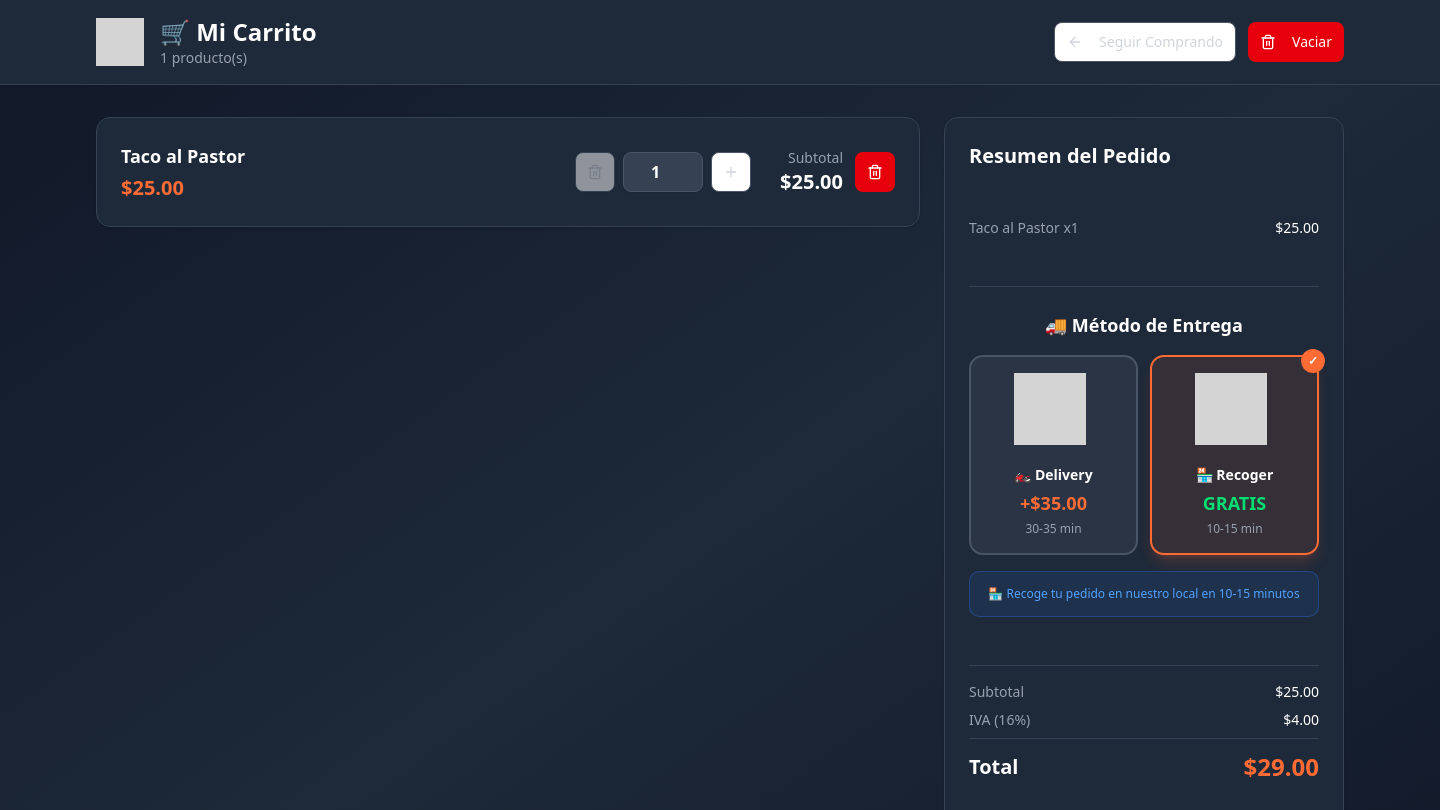
Test case: CartPage Component › Delivery Method › should show correct info message for delivery
Expected: the heading "Taco al Pastor" is shown, [121, 144, 245, 168]
Click the button "🏍️ Delivery +$35.00 30-35 min" at x=1054, y=455, box [969, 355, 1138, 555]
(page scrolled)
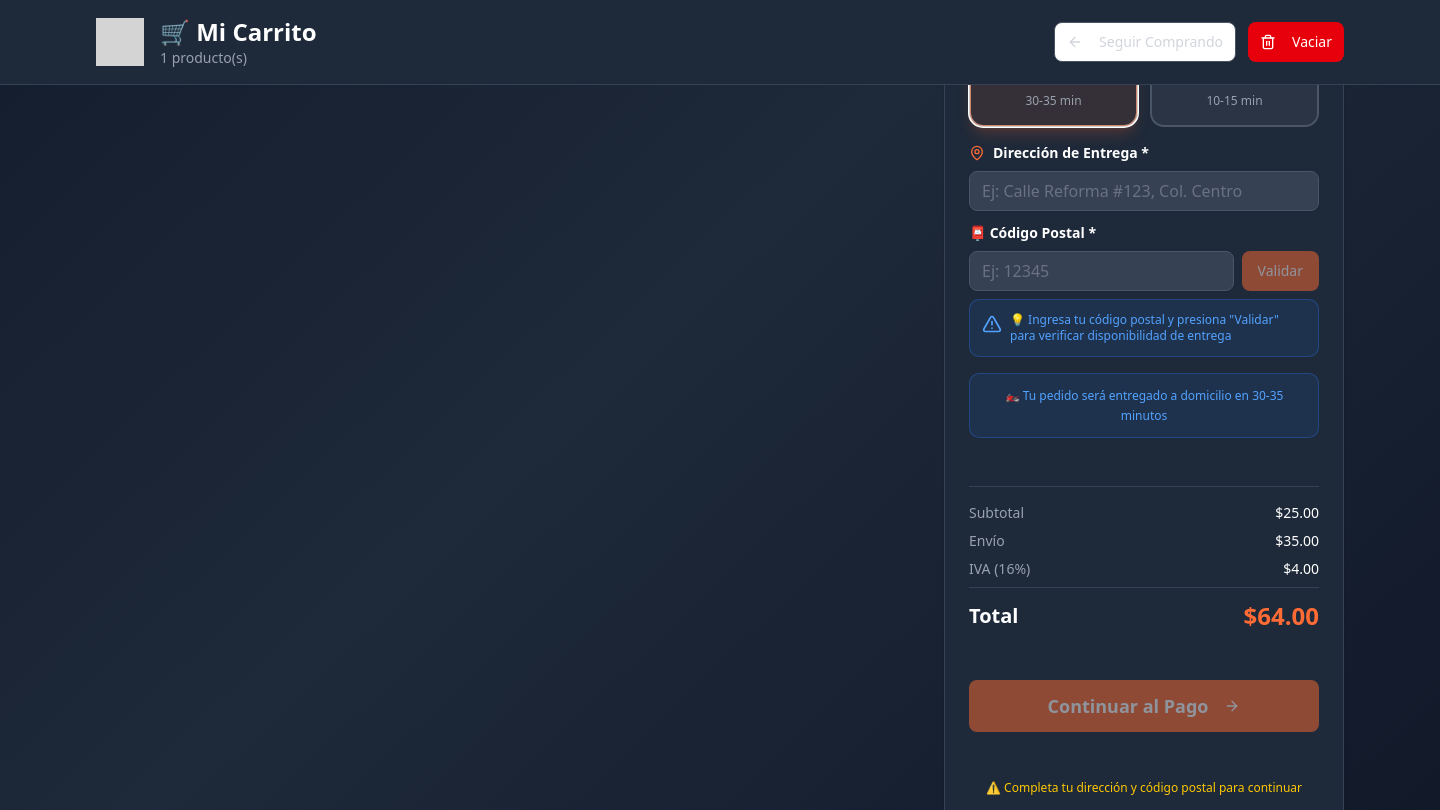
Expected: the text "🏍️ Tu pedido será entregado a domicilio en 30-35 minutos" is shown, [982, 386, 1306, 425]
